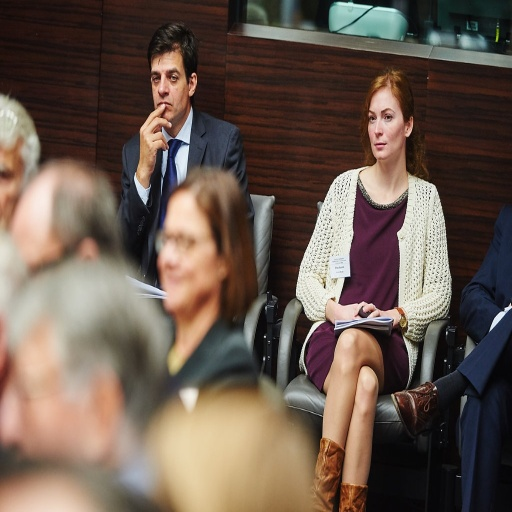hand: (131, 100, 166, 190), (353, 299, 398, 328), (333, 299, 362, 323)
